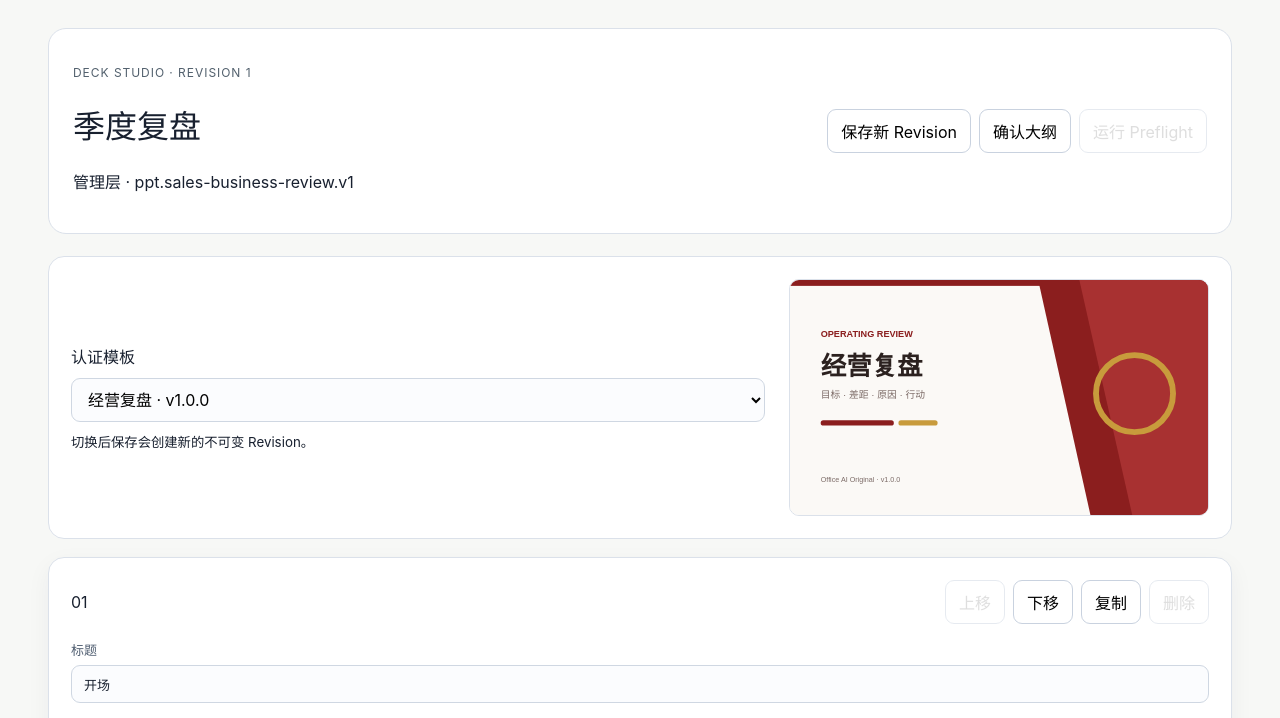
Deck editor › previews and freezes a compatible template in a new revision
Select "数据叙事 · v1.0.0" in the dropdown with test id "deck-template-select" at (418, 400), box [71,378,765,422]
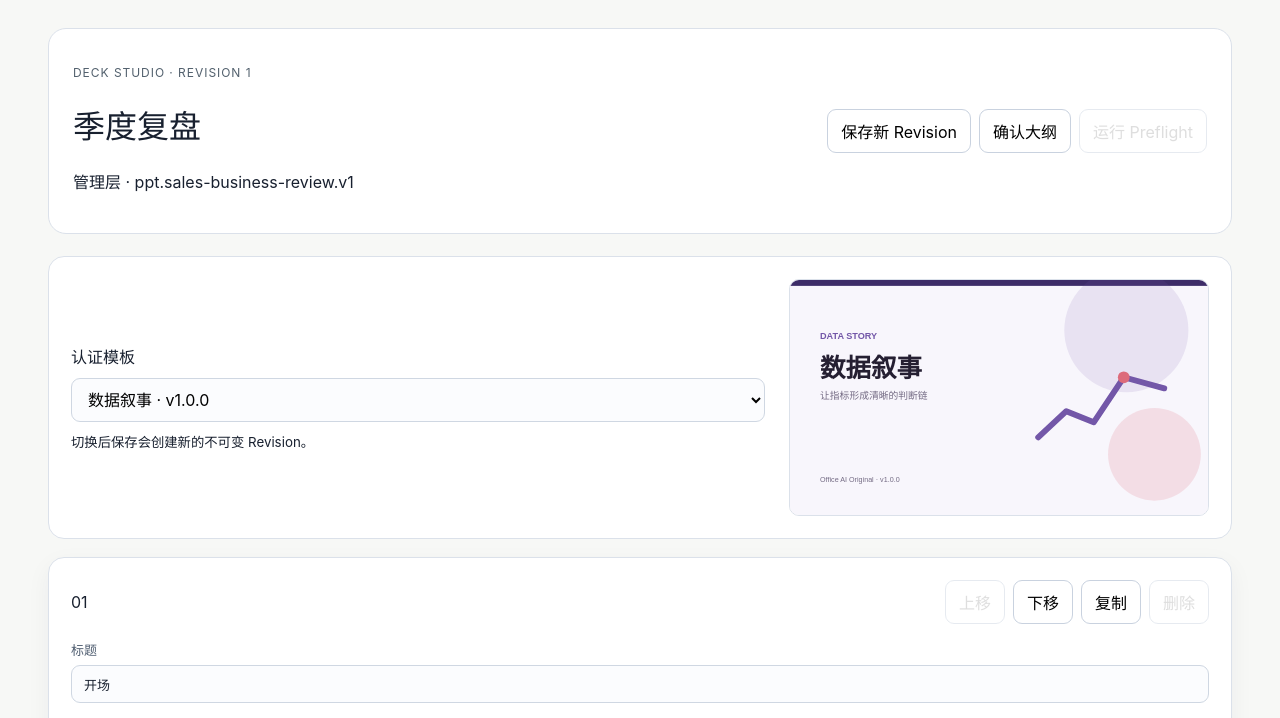
Check: the picture with test id "deck-template-preview" has attribute src="/template-previews/ppt.data-story.v1/cover.svg", box [789,279,1209,516]
Click the button with test id "deck-save" at (899, 131), box [827,109,971,153]
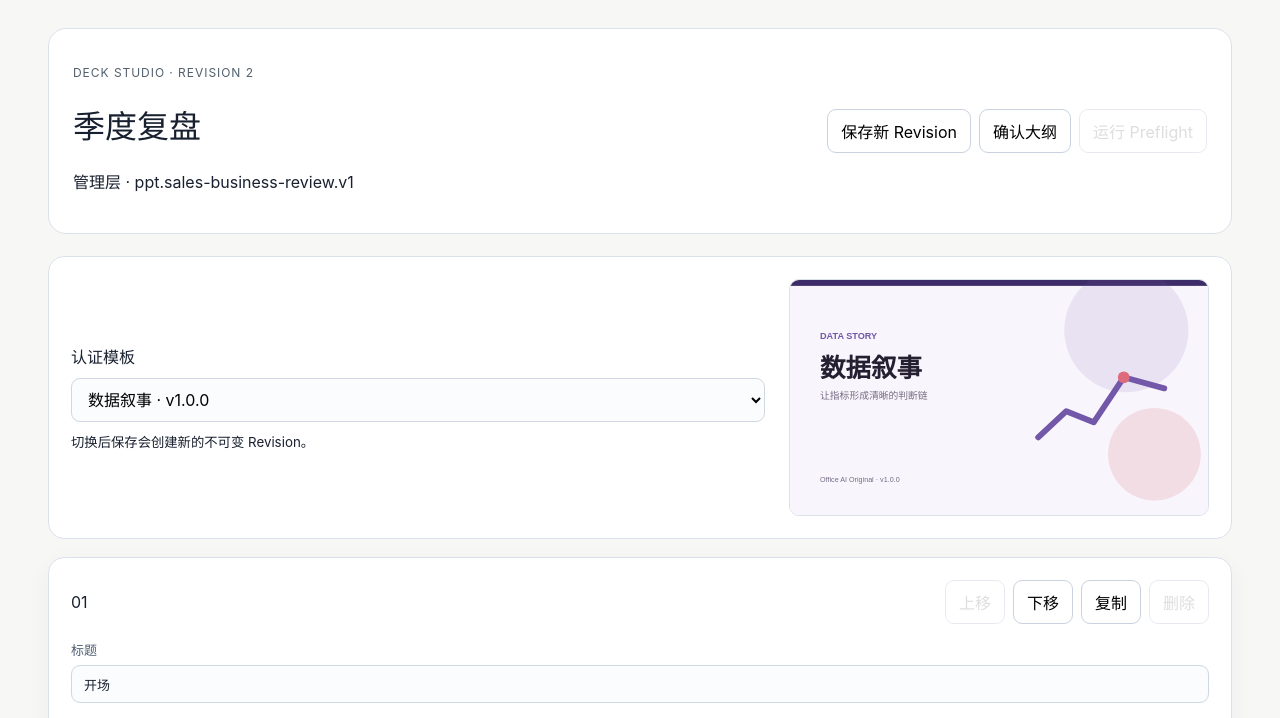
Check: the text "Revision 2" is shown, box [73,65,254,80]
